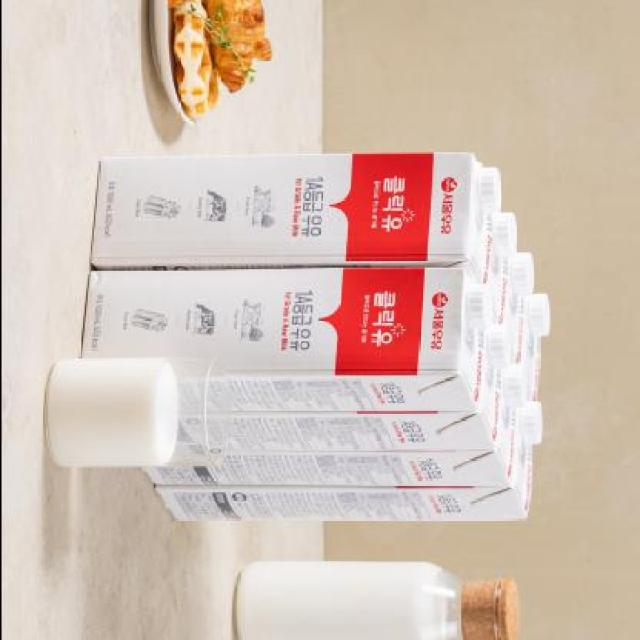tetra: (78, 119, 524, 293)
